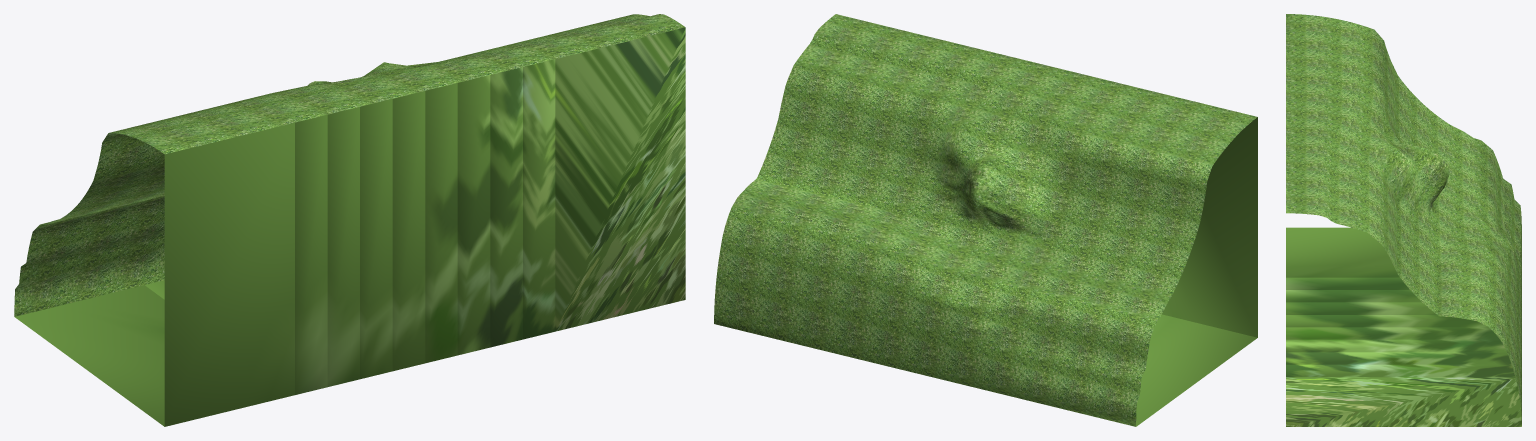
Rendered from Cylinder90GradRiver2.fbx.
3 renders of one model, left to right at view 1: azimuth 30°, elevation 25°; view 2: azimuth 150°, elevation 25°; view 3: azimuth 270°, elevation 25°, orthographic. The views are drawn at different scales.
Parts seen in each view (by area): view 1: Cylinder.001; view 2: Cylinder.001; view 3: Cylinder.001.
Boxes of the visible parts, left/top/right/bottom form: Cylinder.001: left=14, top=14, right=685, bottom=426; Cylinder.001: left=714, top=14, right=1257, bottom=426; Cylinder.001: left=1286, top=14, right=1521, bottom=426.
Bounding box in the file's own units: 200 × 100 × 100.
